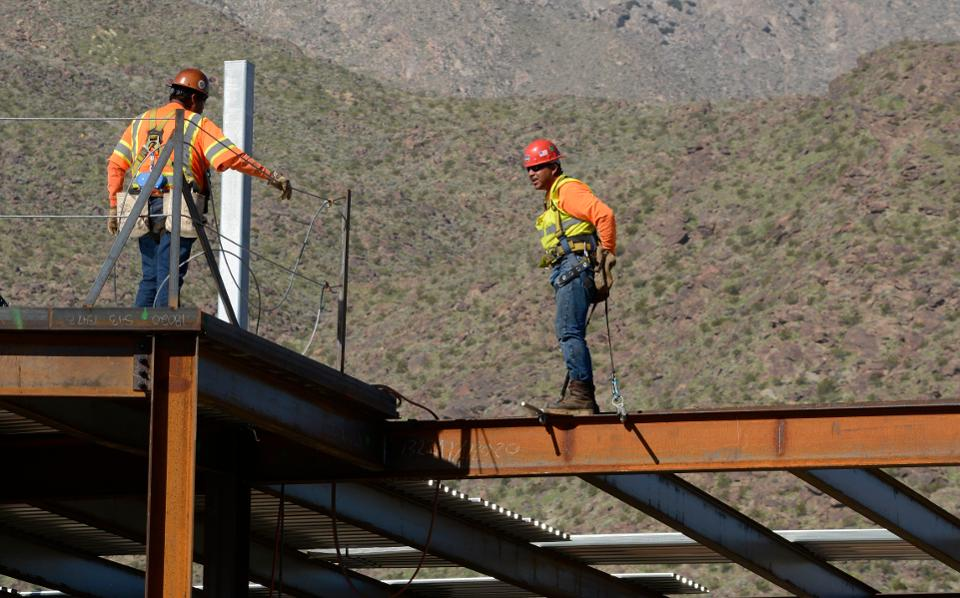hard hat: (172, 67, 209, 94), (520, 142, 563, 164)
high-vis: (116, 102, 246, 199), (538, 176, 593, 248)
